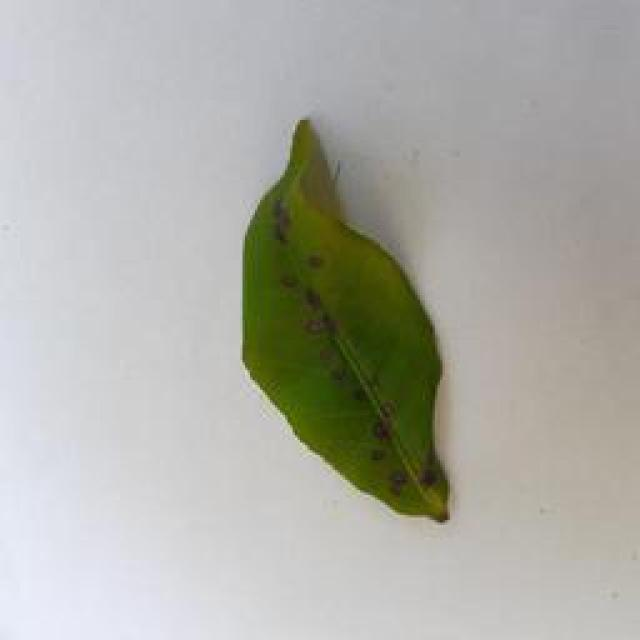Helopeltis: (230, 114, 479, 533)
